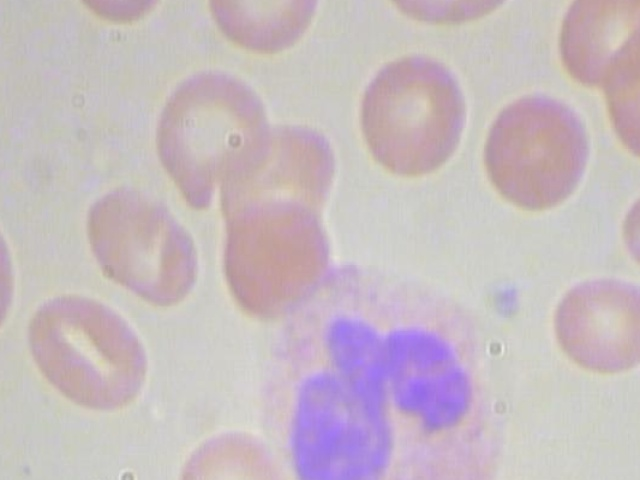RBC: (143, 59, 279, 217), (216, 184, 339, 326), (348, 43, 471, 184), (473, 84, 596, 225), (17, 293, 146, 421), (81, 180, 202, 308), (545, 266, 640, 378), (173, 409, 311, 480), (546, 0, 640, 95), (199, 0, 328, 59), (592, 20, 640, 161), (378, 0, 531, 30), (55, 0, 176, 30), (614, 165, 640, 276)
WBC: (253, 257, 532, 480)
